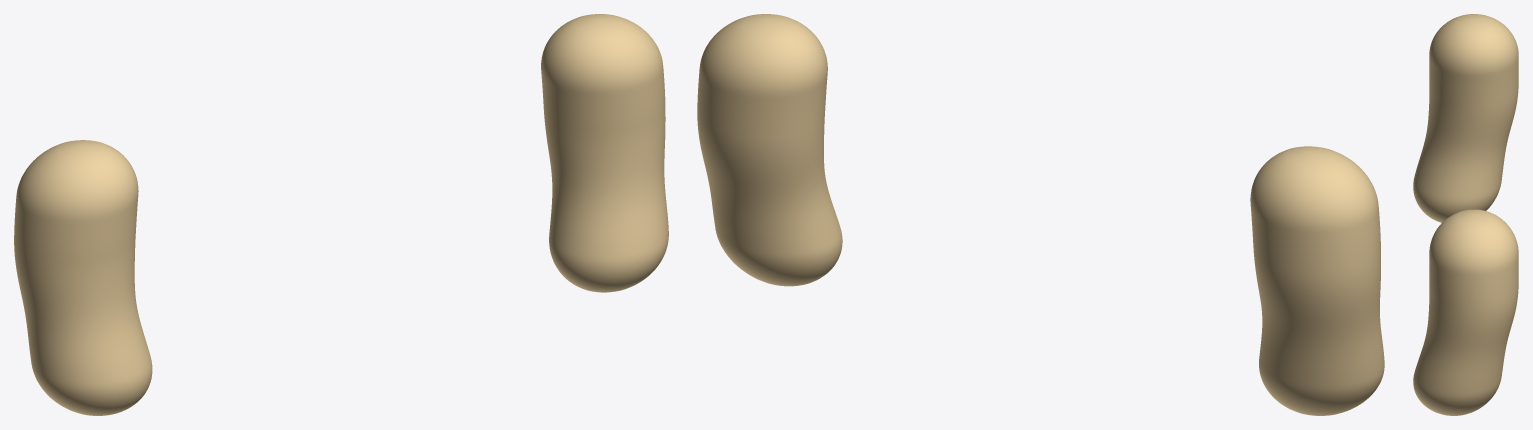
The model's file is Masculine-arms.glb.
The picture shows the model from 3 angles, left to right: view 1: azimuth 30°, elevation 25°; view 2: azimuth 150°, elevation 25°; view 3: azimuth 270°, elevation 25°; orthographic projection. The views are drawn at different scales.
Visible parts, largest first — view 1: Skin / floating arm 1, Skin / floating arm -1; view 2: Skin / floating arm 1, Skin / floating arm -1; view 3: Skin / floating arm 1, Skin / floating arm -1.
Boxes of the visible parts, x1,y1,x2,y2 form: Skin / floating arm 1: [541, 14, 668, 292]; Skin / floating arm -1: [14, 140, 152, 415]; Skin / floating arm 1: [697, 14, 842, 286]; Skin / floating arm -1: [1250, 146, 1384, 415]; Skin / floating arm 1: [1413, 209, 1518, 415]; Skin / floating arm -1: [1413, 14, 1518, 222].
Bounding box in the file's own units: 1.12 × 0.432 × 0.2083.
